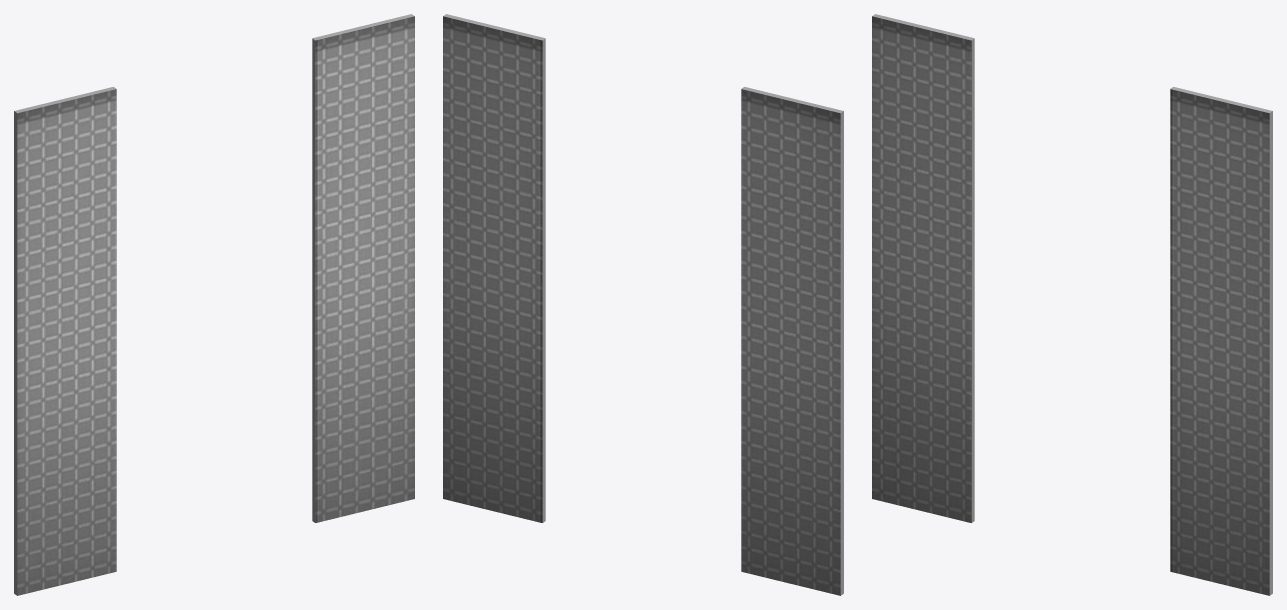
File: landing_door_TM020.glb
3 views of the same model, side by side, from view 1: azimuth 30°, elevation 25°; view 2: azimuth 150°, elevation 25°; view 3: azimuth 330°, elevation 25° (orthographic).
Visible parts, largest first — view 1: Landing_Door_L, Landing_Door_R; view 2: Landing_Door_L, Landing_Door_R; view 3: Landing_Door_L, Landing_Door_R.
Boxes of the visible parts, x1,y1,x2,y2 form: Landing_Door_L: (14, 87, 116, 595); Landing_Door_R: (312, 14, 414, 522); Landing_Door_L: (741, 87, 843, 595); Landing_Door_R: (443, 14, 545, 522); Landing_Door_L: (872, 14, 974, 522); Landing_Door_R: (1170, 87, 1272, 595).
Size of the model in its own units: 1.81 by 2.1 by 0.025.
1 material, 1 textured.
